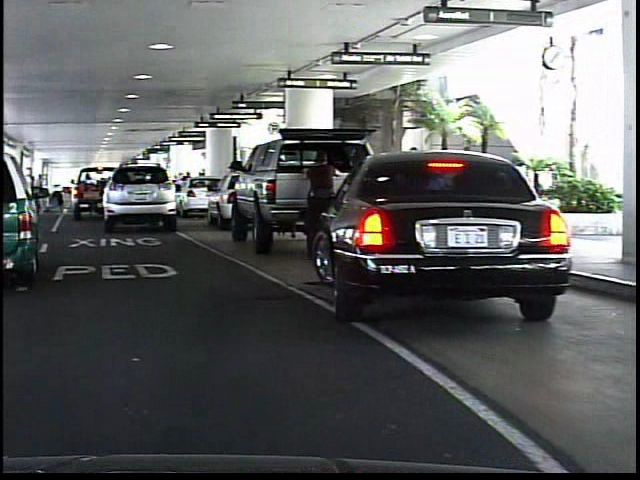person: (295, 149, 346, 256)
